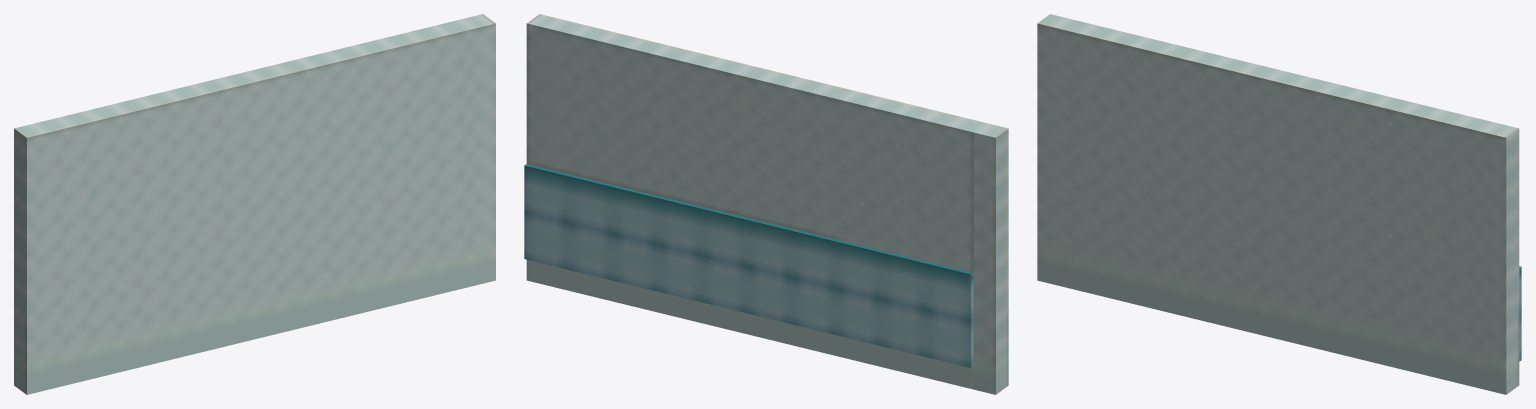
The model's file is WallpaperLightBlueWithTilesSide_00.obj.
3 renders of one model, left to right at view 1: azimuth 30°, elevation 25°; view 2: azimuth 150°, elevation 25°; view 3: azimuth 330°, elevation 25°, orthographic.
Parts seen in each view (by area): view 1: WallpaperLightBlueWithTilesSide_00; view 2: WallpaperLightBlueWithTilesSide_00; view 3: WallpaperLightBlueWithTilesSide_00.
Boxes of the visible parts, bbox=[...] form: WallpaperLightBlueWithTilesSide_00: bbox=[14, 14, 495, 394]; WallpaperLightBlueWithTilesSide_00: bbox=[524, 14, 1008, 394]; WallpaperLightBlueWithTilesSide_00: bbox=[1037, 14, 1521, 394].
Bounding box in the file's own units: 5.25 × 2.75 × 0.3.
